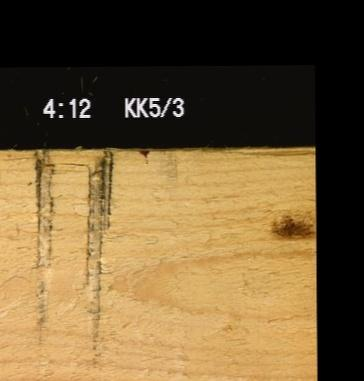wave: (196, 143, 315, 156)
